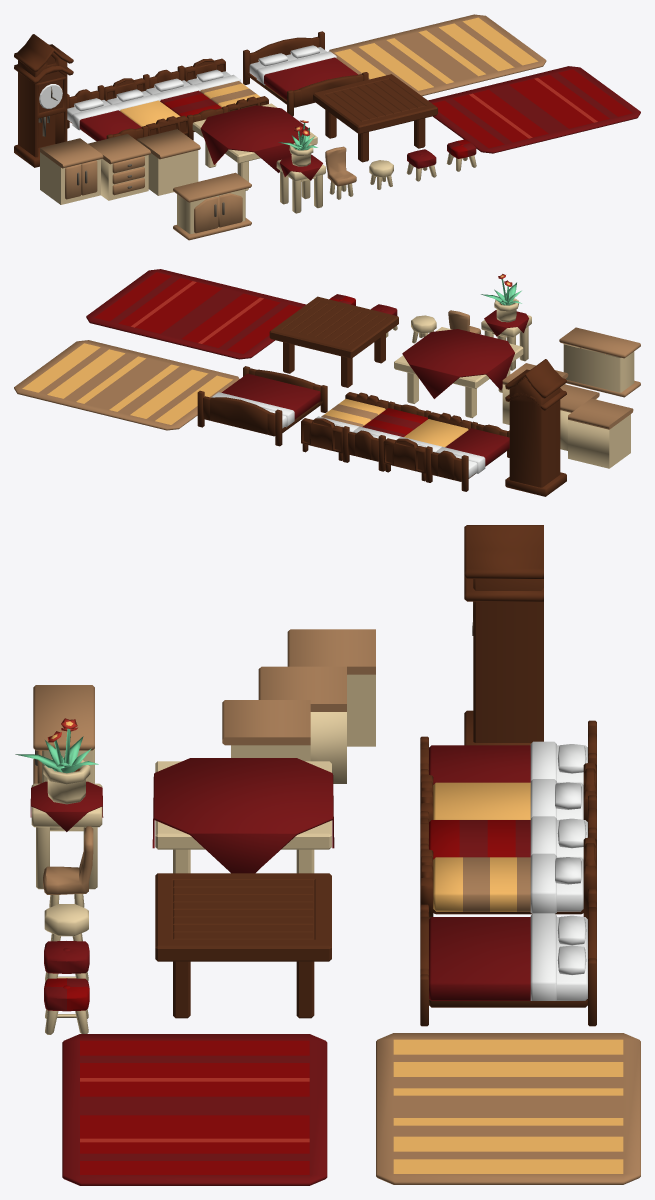
The model's file is LowPolyFurniture1.fbx.
3 views of the same model, one above another, from view 1: azimuth 30°, elevation 25°; view 2: azimuth 150°, elevation 25°; view 3: azimuth 270°, elevation 25° (orthographic). The views are drawn at different scales.
Parts seen in each view (by area): view 1: CarpetB, CarpetA, Clock, TableB, Bed2_Places, TableclothBig, SideTable, KitchenCabinetB, KitchenCabinetC, KitchenCabinetA, BedB_1Color, BedA_1Color (+10 smaller); view 2: CarpetA, CarpetB, Clock, Bed2_Places, TableB, TableclothBig, SideTable, KitchenCabinetB, BedB_1Color, BedA_1Color, BedB_2Colors, BedA_2Colors (+8 smaller); view 3: CarpetB, CarpetA, TableB, Bed2_Places, Clock, TableclothBig, BedA_2Colors, BedA_1Color, BedB_2Colors, BedB_1Color, KitchenCabinetB, KitchenCabinetA (+10 smaller).
Part boxes in pixels (x1,y1,x2,y2): CarpetB: (428, 66, 640, 153); CarpetA: (329, 14, 546, 96); Clock: (14, 34, 73, 167); TableB: (313, 74, 437, 162); Bed2_Places: (243, 31, 368, 116); TableclothBig: (200, 105, 308, 172); SideTable: (173, 172, 251, 240); KitchenCabinetB: (40, 138, 103, 204); KitchenCabinetC: (137, 129, 200, 195); KitchenCabinetA: (88, 134, 150, 200); BedB_1Color: (67, 85, 148, 141); BedA_1Color: (104, 78, 188, 135); CarpetA: (14, 340, 239, 430); CarpetB: (86, 269, 306, 359); Clock: (505, 359, 566, 496); Bed2_Places: (197, 366, 327, 446); TableB: (269, 296, 398, 387); TableclothBig: (402, 329, 514, 398); SideTable: (559, 327, 640, 397); KitchenCabinetB: (568, 398, 633, 468); BedB_1Color: (425, 421, 509, 491); BedA_1Color: (383, 412, 471, 481); BedB_2Colors: (342, 401, 431, 471); BedA_2Colors: (301, 392, 388, 460); CarpetB: (62, 1034, 327, 1185); CarpetA: (376, 1033, 640, 1184); TableB: (155, 873, 331, 1018); Bed2_Places: (420, 888, 596, 1026); Clock: (464, 525, 543, 745); TableclothBig: (152, 758, 334, 873); BedA_2Colors: (420, 837, 596, 918); BedA_1Color: (420, 763, 596, 821); BedB_2Colors: (420, 795, 596, 859); BedB_1Color: (420, 720, 596, 784); KitchenCabinetB: (287, 629, 375, 746); KitchenCabinetA: (258, 666, 346, 783).
Bounding box in the file's own units: 1306 × 273 × 710.
